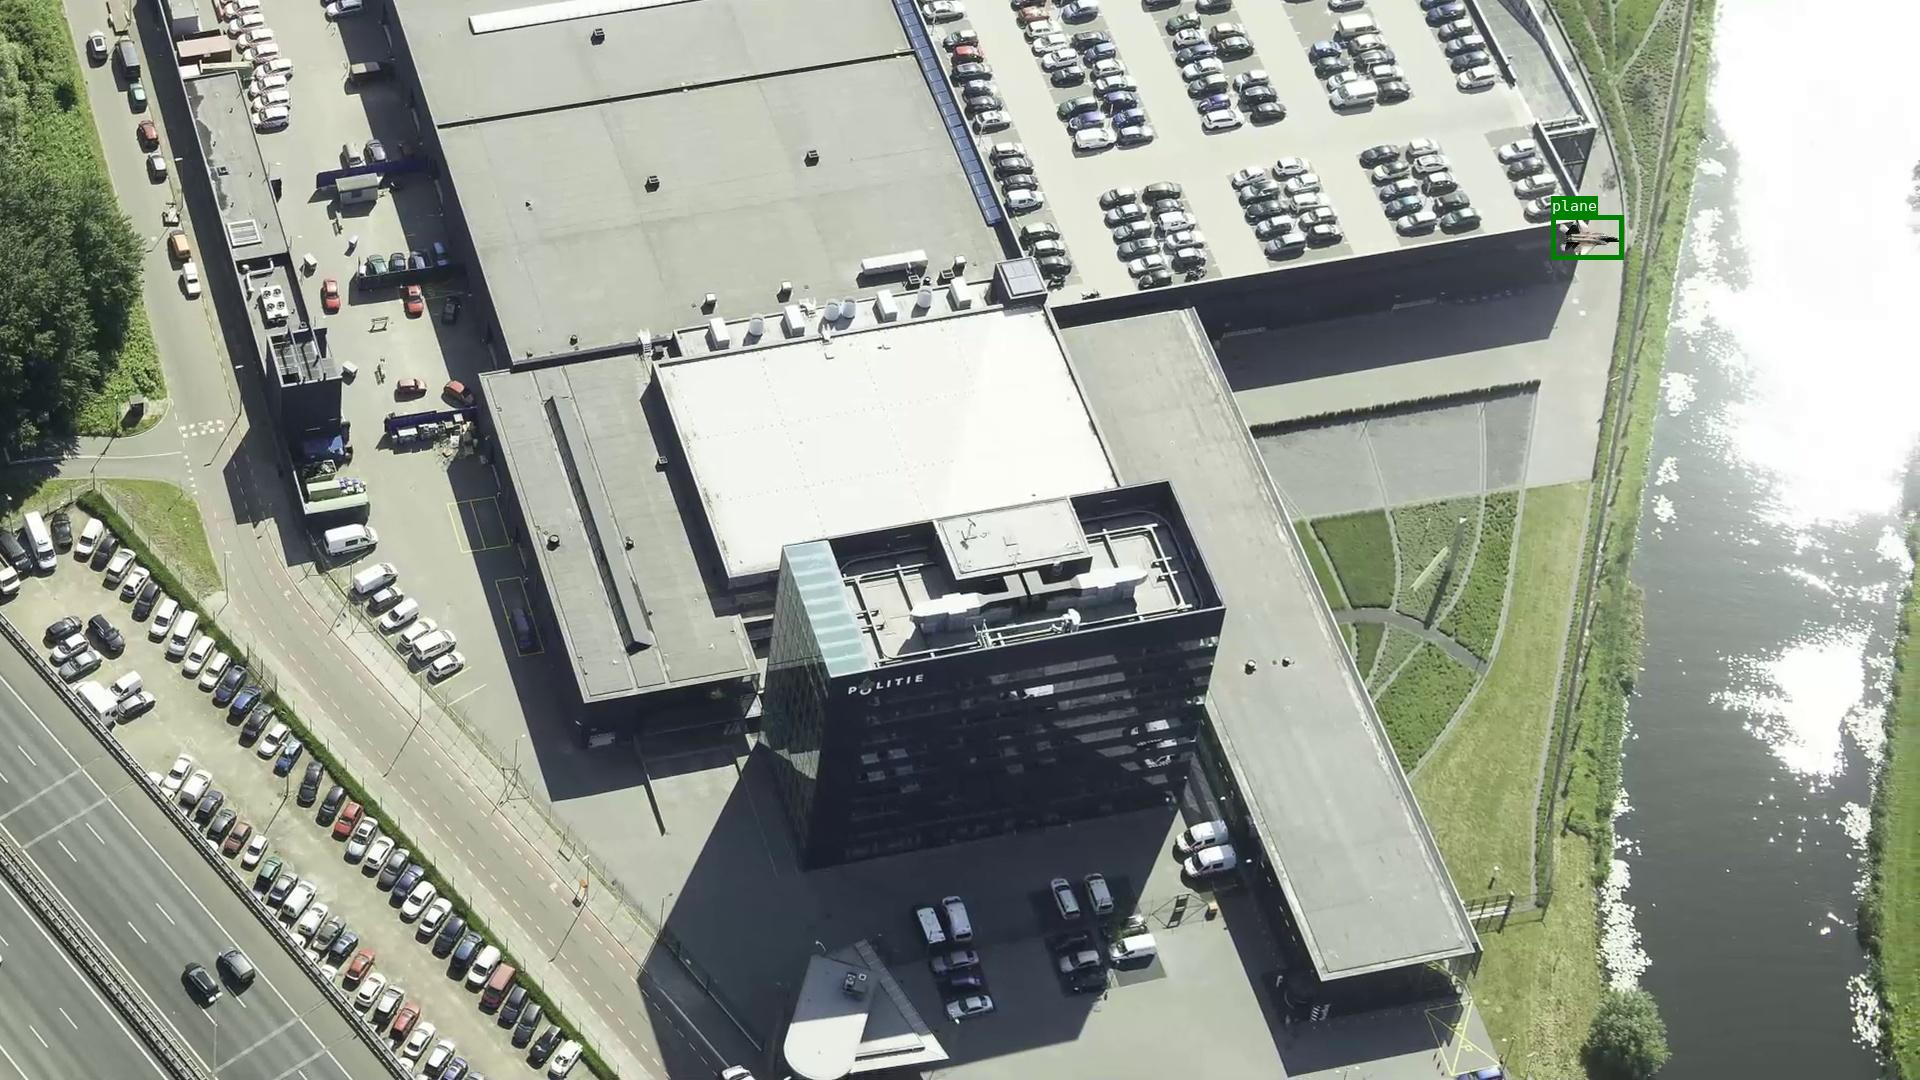plane: (1551, 215, 1623, 258)
